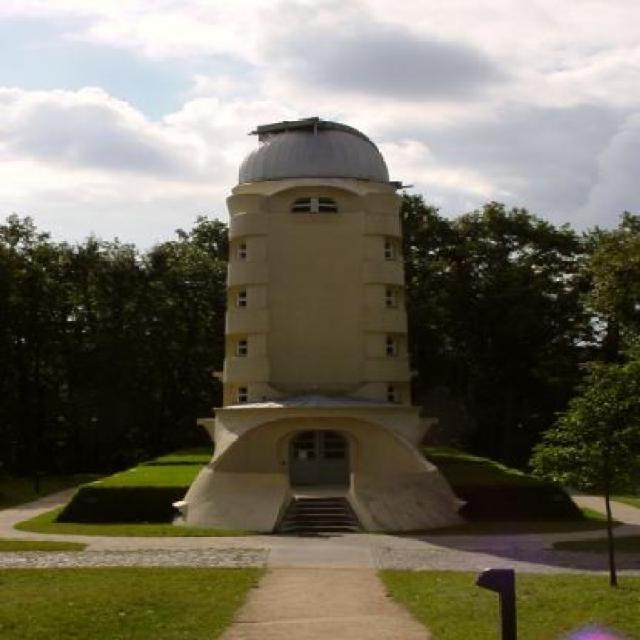stair: (268, 496, 366, 540)
